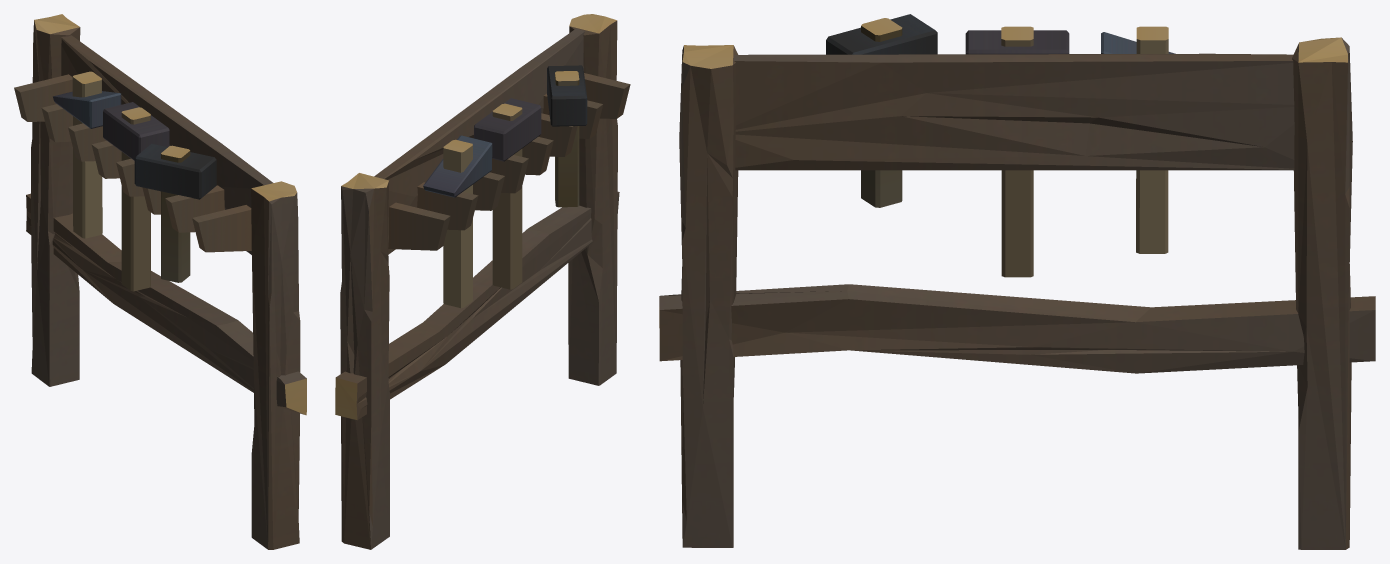
Rendered from Forge_2.fbx.
The picture shows the model from 3 angles, left to right: view 1: azimuth 30°, elevation 25°; view 2: azimuth 150°, elevation 25°; view 3: azimuth 270°, elevation 25°; orthographic projection. The views are drawn at different scales.
Parts seen in each view (by area): view 1: polySurface9721; view 2: polySurface9721; view 3: polySurface9721.
Part boxes in pixels (x1,y1,x2,y2): polySurface9721: [14, 14, 306, 549]; polySurface9721: [335, 14, 630, 549]; polySurface9721: [659, 14, 1375, 549].
Bounding box in the file's own units: 44.85 × 174 × 230.
